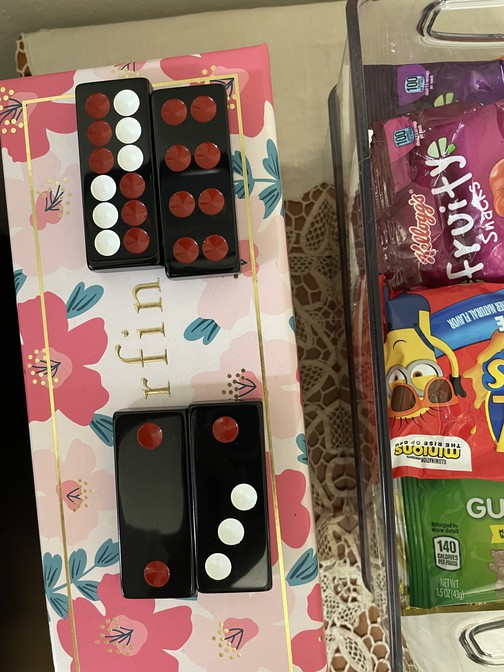earth: (113, 407, 194, 599)
goose: (190, 399, 270, 595)
heaven: (72, 79, 160, 272)
man: (151, 85, 241, 279)
